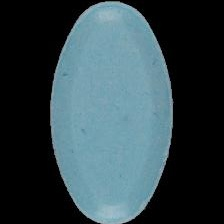68382-055: (0, 0, 224, 224)
